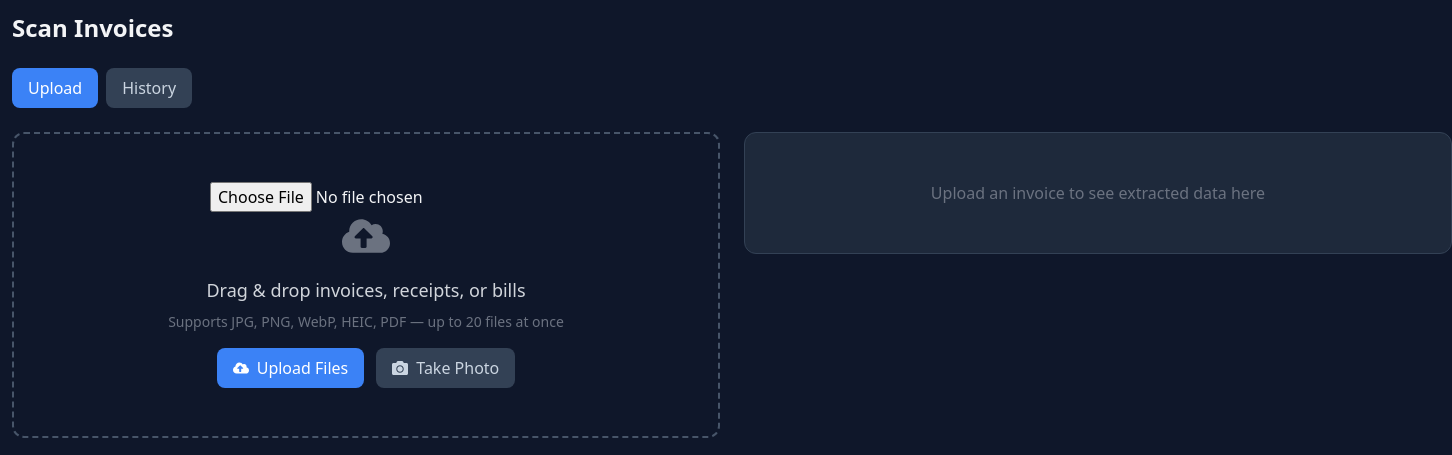
ScanPage › renders history with failed status
This screenshot has width=1452, height=455.
Step 1. Click the button "History" → click(149, 88), box [106,68,192,108]
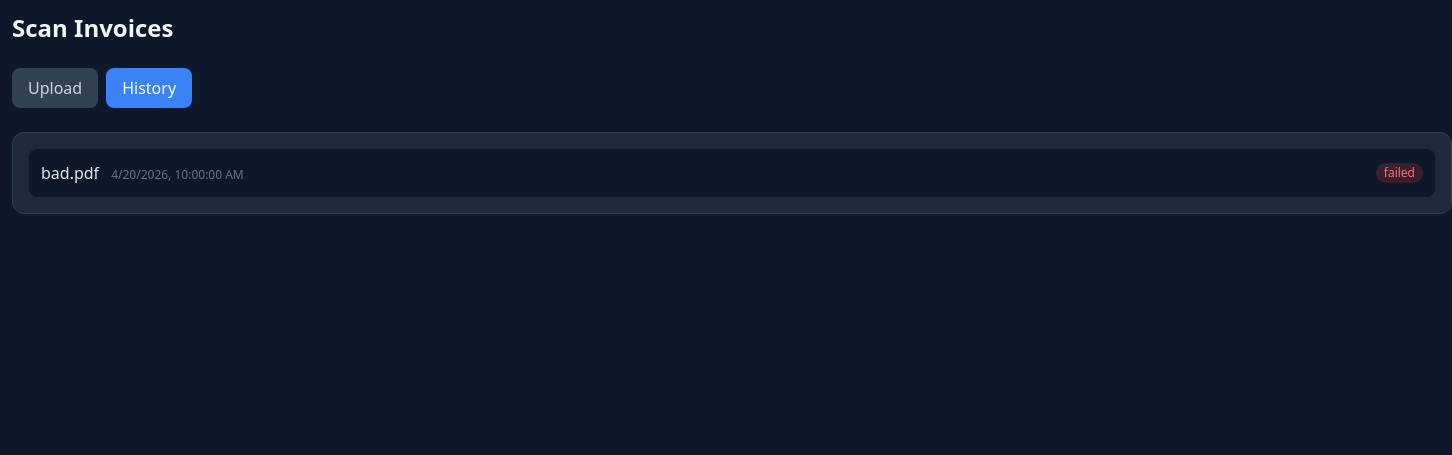
Check: the text "failed" is shown, box [1376,163,1423,183]
